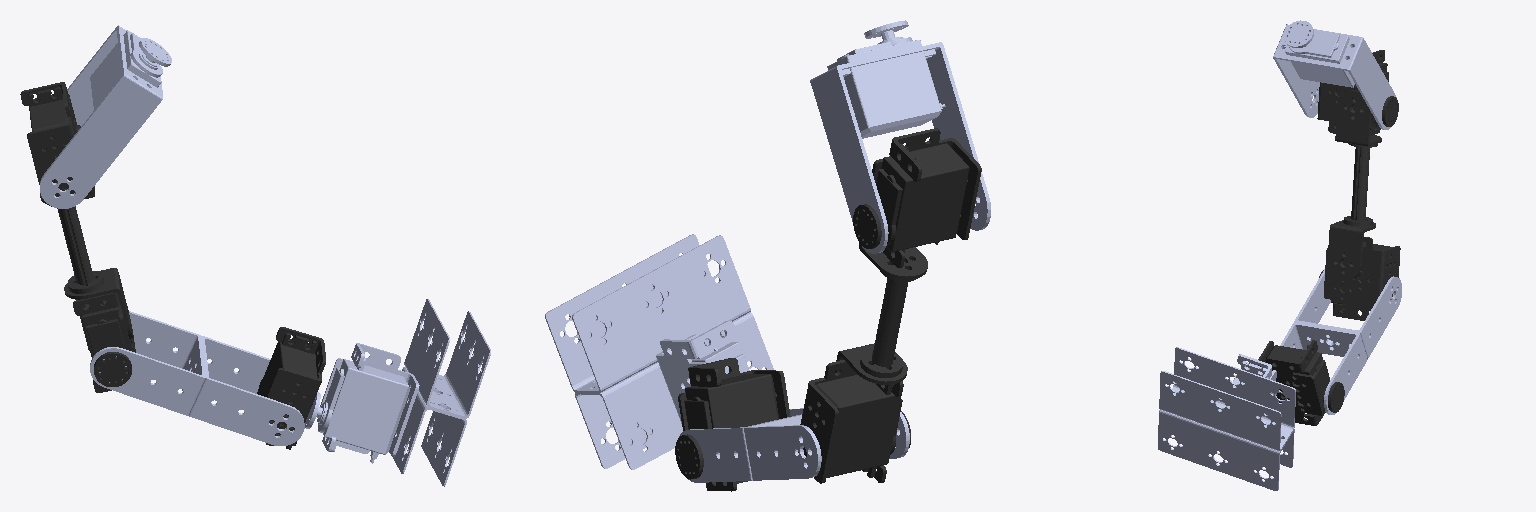
The robot description file, URDF, robot "robot_arm_total":
<?xml version="1.0" encoding="utf-8"?>
<!-- This URDF was automatically created by SolidWorks to URDF Exporter! Originally created by [author] ([email redacted]) 
     Commit Version: 1.6.0-4-g7f85cfe  Build Version: 1.6.7995.38578
     For more information, please see http://wiki.ros.org/sw_urdf_exporter -->
<robot
  name="robot_arm_total">
  <link
    name="base_link">
    <inertial>
      <origin
        xyz="0.63646 0.66199 1.4192"
        rpy="0 0 0" />
      <mass
        value="0.057388" />
      <inertia
        ixx="2.1407E-05"
        ixy="-3.684E-07"
        ixz="1.4486E-06"
        iyy="2.1277E-05"
        iyz="-8.0992E-07"
        izz="1.8195E-05" />
    </inertial>
    <visual>
      <origin
        xyz="0 0 0"
        rpy="0 0 0" />
      <geometry>
        <mesh
          filename="package://robot_arm_total/meshes/base_link.STL" />
      </geometry>
      <material
        name="">
        <color
          rgba="0.79216 0.81961 0.93333 1" />
      </material>
    </visual>
    <collision>
      <origin
        xyz="0 0 0"
        rpy="0 0 0" />
      <geometry>
        <mesh
          filename="package://robot_arm_total/meshes/base_link.STL" />
      </geometry>
    </collision>
  </link>
  <link
    name="Link1">
    <inertial>
      <origin
        xyz="-0.000496131715836512 0.0130844213968387 -0.0293220003193908"
        rpy="0 0 0" />
      <mass
        value="0.0402685764137255" />
      <inertia
        ixx="7.55265668974866E-06"
        ixy="2.78892476554161E-07"
        ixz="1.00226181298171E-10"
        iyy="8.03333187302448E-06"
        iyz="2.12099373648896E-07"
        izz="1.25516858304061E-05" />
    </inertial>
    <visual>
      <origin
        xyz="0 0 0"
        rpy="0 0 0" />
      <geometry>
        <mesh
          filename="package://robot_arm_total/meshes/Link1.STL" />
      </geometry>
      <material
        name="">
        <color
          rgba="0.250980392156863 0.250980392156863 0.250980392156863 1" />
      </material>
    </visual>
    <collision>
      <origin
        xyz="0 0 0"
        rpy="0 0 0" />
      <geometry>
        <mesh
          filename="package://robot_arm_total/meshes/Link1.STL" />
      </geometry>
    </collision>
  </link>
  <joint
    name="Joint0"
    type="revolute">
    <origin
      xyz="0.56587 -1.3811 0.67333"
      rpy="0.13003 -1.2184 -0.59159" />
    <parent
      link="base_link" />
    <child
      link="Link1" />
    <axis
      xyz="0 0 1" />
    <limit
      lower="-1.57"
      upper="1.57"
      effort="10"
      velocity="100" />
  </joint>
  <link
    name="Link2">
    <inertial>
      <origin
        xyz="0.0135 -3.4661E-13 -0.05"
        rpy="0 0 0" />
      <mass
        value="0.015631" />
      <inertia
        ixx="6.6818E-06"
        ixy="-7.3057E-21"
        ixz="4.0658E-20"
        iyy="1.3461E-05"
        iyz="-2.1546E-17"
        izz="8.4448E-06" />
    </inertial>
    <visual>
      <origin
        xyz="0 0 0"
        rpy="0 0 0" />
      <geometry>
        <mesh
          filename="package://robot_arm_total/meshes/Link2.STL" />
      </geometry>
      <material
        name="">
        <color
          rgba="0.79216 0.81961 0.93333 1" />
      </material>
    </visual>
    <collision>
      <origin
        xyz="0 0 0"
        rpy="0 0 0" />
      <geometry>
        <mesh
          filename="package://robot_arm_total/meshes/Link2.STL" />
      </geometry>
    </collision>
  </link>
  <joint
    name="Joint1"
    type="revolute">
    <origin
      xyz="-0.01035 0 -0.028347"
      rpy="-3.1025 0 1.5708" />
    <parent
      link="Link1" />
    <child
      link="Link2" />
    <axis
      xyz="1 0 0" />
    <limit
      lower="-1.57"
      upper="1.57"
      effort="10"
      velocity="100" />
  </joint>
  <link
    name="Link3">
    <inertial>
      <origin
        xyz="0.072988 -0.0069801 0.0010766"
        rpy="0 0 0" />
      <mass
        value="0.091722" />
      <inertia
        ixx="1.5925E-05"
        ixy="4.6258E-10"
        ixz="-1.4948E-14"
        iyy="1.9406E-05"
        iyz="1.3359E-12"
        izz="2.8326E-05" />
    </inertial>
    <visual>
      <origin
        xyz="0 0 0"
        rpy="0 0 0" />
      <geometry>
        <mesh
          filename="package://robot_arm_total/meshes/Link3.STL" />
      </geometry>
      <material
        name="">
        <color
          rgba="0.25098 0.25098 0.25098 1" />
      </material>
    </visual>
    <collision>
      <origin
        xyz="0 0 0"
        rpy="0 0 0" />
      <geometry>
        <mesh
          filename="package://robot_arm_total/meshes/Link3.STL" />
      </geometry>
    </collision>
  </link>
  <joint
    name="Joint2"
    type="continuous">
    <origin
      xyz="0 0 -0.1"
      rpy="0 0.61465 1.5708" />
    <parent
      link="Link2" />
    <child
      link="Link3" />
    <axis
      xyz="0 1 0" />
    <limit
      lower="-1.57"
      upper="1.57"
      effort="10"
      velocity="100" />
  </joint>
  <link
    name="Link4">
    <inertial>
      <origin
        xyz="-0.0034242 -0.00019222 -0.056685"
        rpy="0 0 0" />
      <mass
        value="0.043861" />
      <inertia
        ixx="1.3473E-05"
        ixy="1.4148E-13"
        ixz="-2.7912E-07"
        iyy="2.4173E-05"
        iyz="1.3804E-09"
        izz="1.4237E-05" />
    </inertial>
    <visual>
      <origin
        xyz="0 0 0"
        rpy="0 0 0" />
      <geometry>
        <mesh
          filename="package://robot_arm_total/meshes/Link4.STL" />
      </geometry>
      <material
        name="">
        <color
          rgba="0.79216 0.81961 0.93333 1" />
      </material>
    </visual>
    <collision>
      <origin
        xyz="0 0 0"
        rpy="0 0 0" />
      <geometry>
        <mesh
          filename="package://robot_arm_total/meshes/Link4.STL" />
      </geometry>
    </collision>
  </link>
  <joint
    name="Joint3"
    type="revolute">
    <origin
      xyz="0.1262 0 0"
      rpy="2.4178 0 -1.5708" />
    <parent
      link="Link3" />
    <child
      link="Link4" />
    <axis
      xyz="1 0 0" />
    <limit
      lower="-1.57"
      upper="1.57"
      effort="10"
      velocity="100" />
  </joint>
</robot>

--- What the picture shows (computed from the rendered views, not written in the file) ---
The picture shows the robot from 3 angles, left to right: view 1: azimuth 30°, elevation 25°; view 2: azimuth 150°, elevation 25°; view 3: azimuth 270°, elevation 25°; orthographic projection.
Robot: robot_arm_total — 5 links, 4 joints (3 revolute, 1 continuous); root link base_link; default pose: all joints at 0.
Links seen in each view (by area): view 1: base_link, Link2, Link4, Link3, Link1; view 2: base_link, Link3, Link4, Link1, Link2; view 3: base_link, Link3, Link4, Link2, Link1.
Link boxes in pixels (box(x1,y1,x2,y2)): base_link: box(305, 299, 490, 486); Link2: box(90, 311, 304, 445); Link4: box(40, 25, 171, 208); Link3: box(20, 82, 135, 392); Link1: box(257, 327, 325, 449); base_link: box(545, 234, 773, 469); Link3: box(798, 128, 981, 483); Link4: box(810, 20, 990, 253); Link1: box(675, 358, 790, 491); Link2: box(679, 408, 909, 482); base_link: box(1158, 347, 1295, 490); Link3: box(1317, 50, 1400, 320); Link4: box(1273, 20, 1396, 129); Link2: box(1280, 269, 1401, 414); Link1: box(1258, 340, 1344, 425).
Bounding box of the posed robot: 0.2565 × 0.1665 × 0.2757 m (x, y, z).
Meshes: 5 distinct files referenced, 5 mesh visuals loaded (5 binary STL).